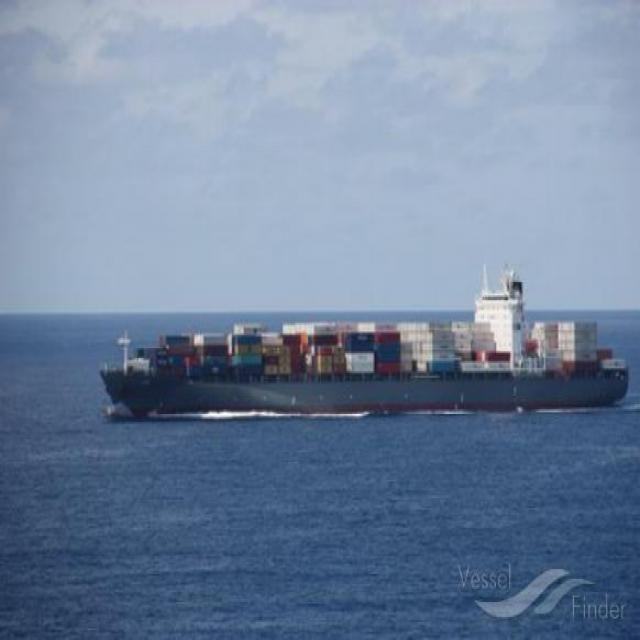Container Ship: (98, 288, 624, 408)
